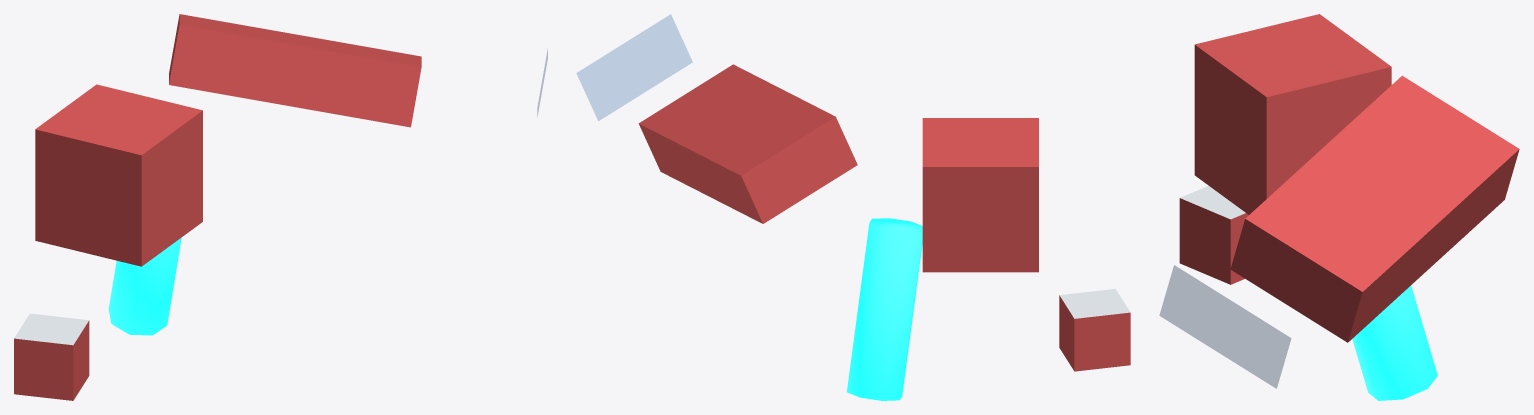
Rendered from blender_scene.fbx.
3 views of the same model, side by side, from view 1: azimuth 30°, elevation 25°; view 2: azimuth 150°, elevation 25°; view 3: azimuth 270°, elevation 25° (orthographic). The views are drawn at different scales.
Visible parts, largest first — view 1: CaisseLiee, Caisse, Bicolore, Colonne; view 2: Caisse, CaisseLiee, Colonne, Vitre, Bicolore; view 3: Caisse, CaisseLiee, Vitre, Colonne, Bicolore.
Part boxes in pixels (box(x1,y1,x2,y2)): CaisseLiee: box(35, 84, 202, 266); Caisse: box(169, 14, 421, 127); Bicolore: box(14, 313, 89, 400); Colonne: box(108, 237, 181, 335); Caisse: box(638, 64, 857, 223); CaisseLiee: box(922, 118, 1038, 272); Colonne: box(847, 218, 922, 400); Vitre: box(576, 14, 692, 120); Bicolore: box(1059, 289, 1130, 371); Caisse: box(1230, 75, 1519, 342); CaisseLiee: box(1194, 14, 1391, 214); Vitre: box(1159, 265, 1291, 388); Colonne: box(1352, 285, 1437, 400); Bicolore: box(1179, 185, 1248, 284).
Bounding box in the file's own units: 1052 × 521 × 499.
